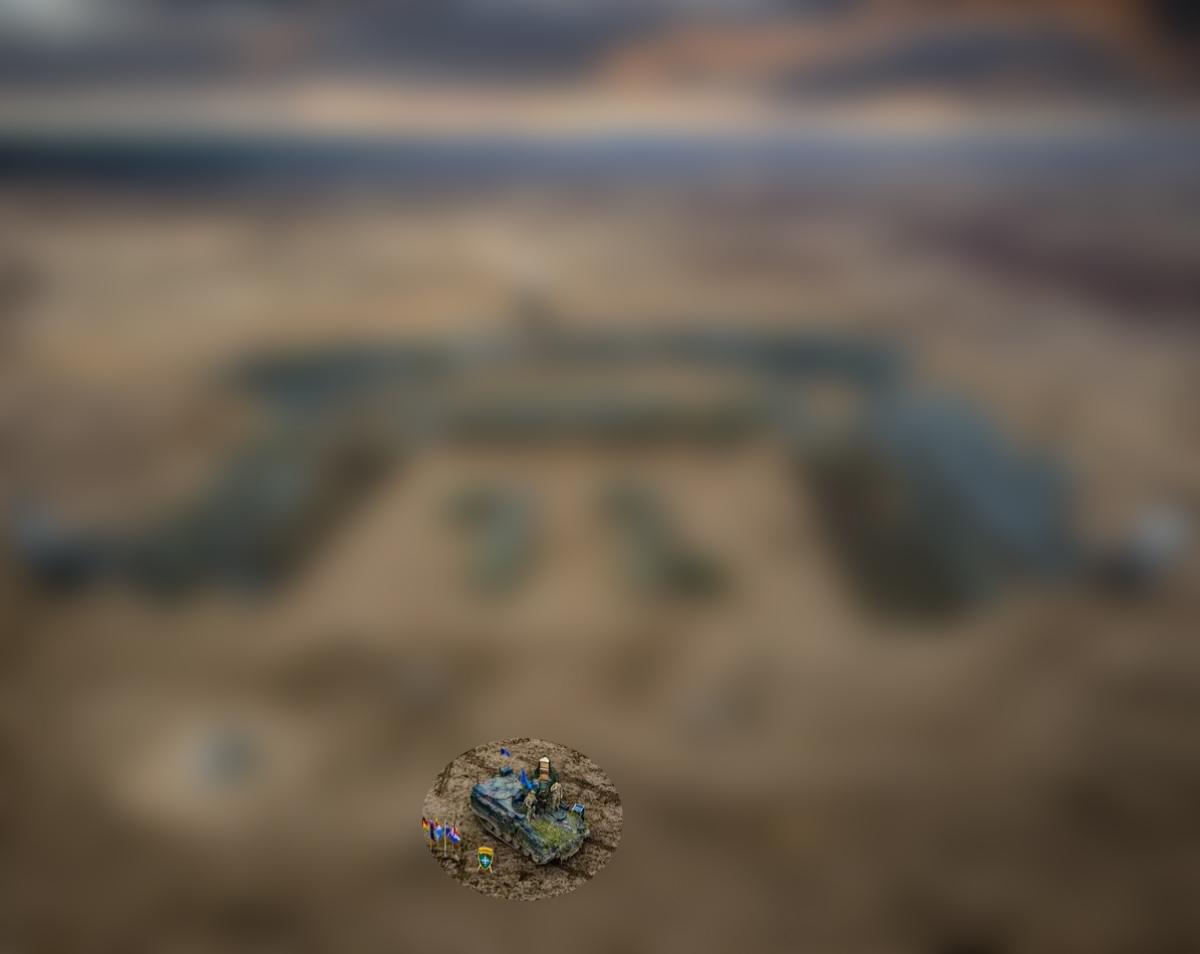armored_car: (454, 752, 600, 878)
